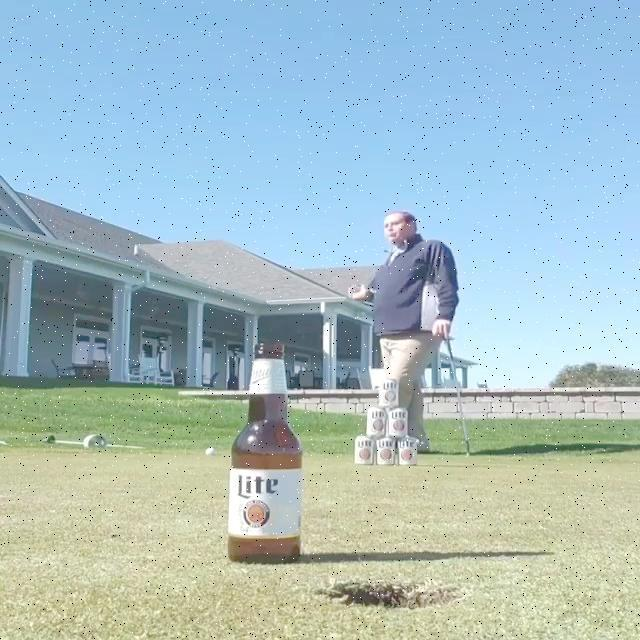ClubHead: (442, 334, 458, 342)
GolfBall: (205, 447, 215, 455)
